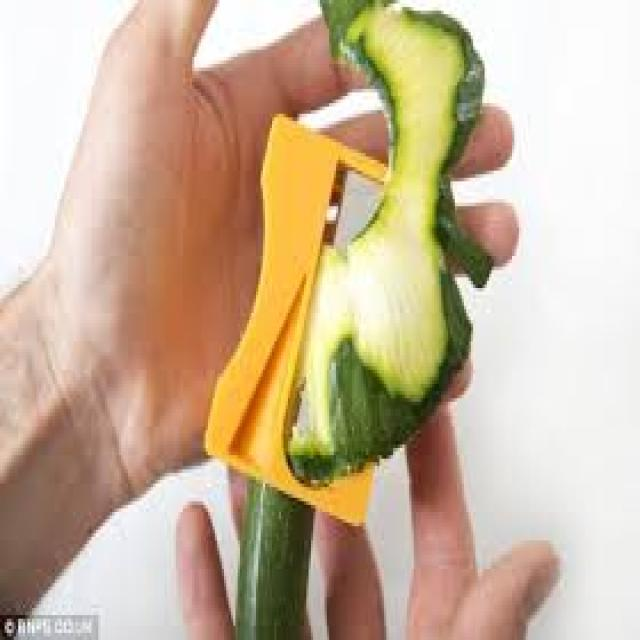Organik: (315, 0, 473, 471), (240, 474, 314, 640)
